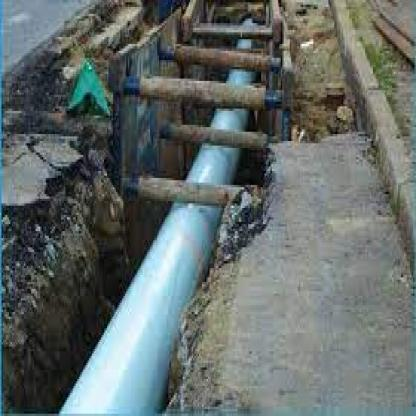PVC: (59, 21, 257, 413)
